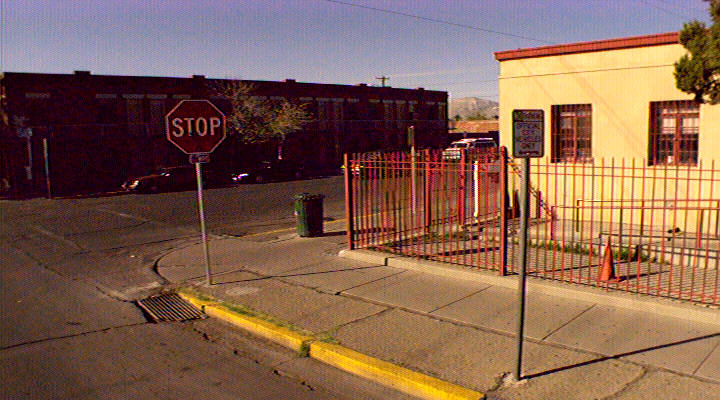Ramp: (141, 232, 297, 304)
